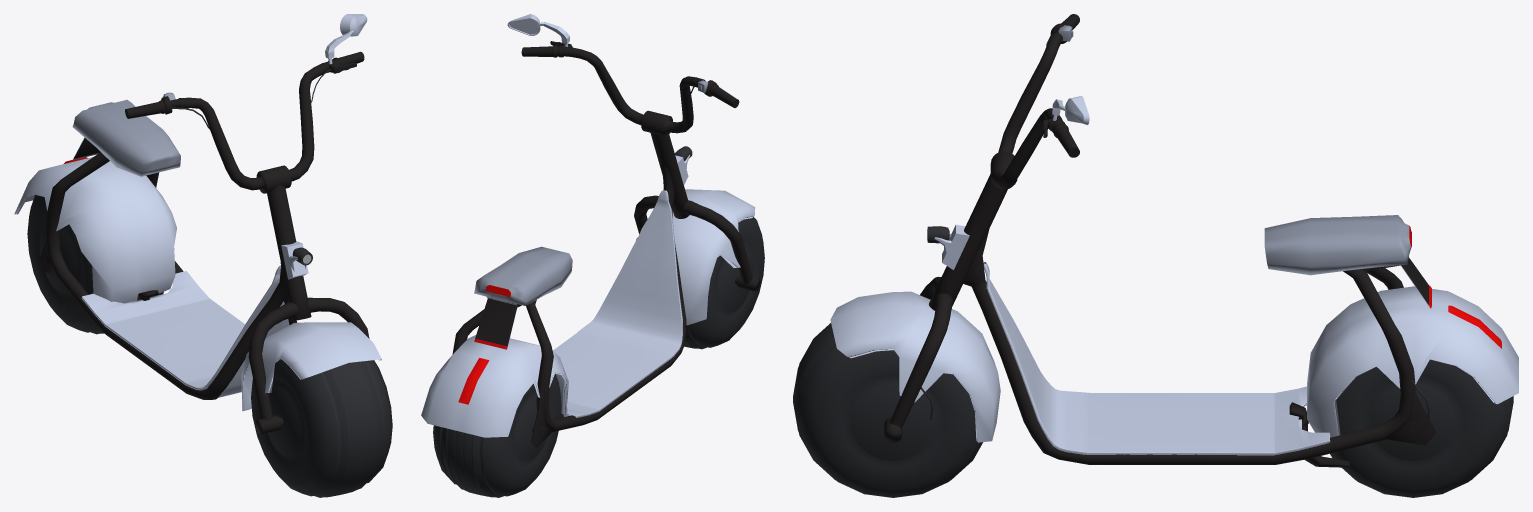
File: Test scrooser.fbx
3 renders of one model, left to right at view 1: azimuth 30°, elevation 25°; view 2: azimuth 150°, elevation 25°; view 3: azimuth 270°, elevation 25°, orthographic. The views are drawn at different scales.
Parts seen in each view (by area): view 1: pCylinder5, pCylinder7, pCube2, pCylinder9, polySurface2, pCube1, pCylinder4, pasted__pCylinder5, pCylinder2, pCylinder1, pCube3, pasted__pCube2 (+1 smaller); view 2: pCube2, pCylinder7, pasted__pCylinder5, pCylinder9, pCube1, pCylinder5, polySurface2, pCylinder4, pCylinder2, pCylinder1, pCylinder10, polySurface1; view 3: pCylinder5, pCube2, pCylinder7, pasted__pCylinder5, pCylinder9, polySurface1, pCube1, pCylinder4, pCylinder1, pCylinder2, polySurface2, pCube3.
Boxes of the visible parts, box(x1,y1,x2,y2) form: pCylinder5: box(251, 359, 392, 497); pCylinder7: box(14, 157, 176, 303); pCube2: box(81, 265, 280, 390); pCylinder9: box(241, 322, 381, 411); polySurface2: box(40, 152, 286, 399); pCube1: box(72, 99, 180, 176); pCylinder4: box(125, 51, 364, 193); pasted__pCylinder5: box(27, 195, 163, 334); pCylinder2: box(248, 297, 369, 419); pCylinder1: box(267, 185, 311, 320); pCube3: box(281, 241, 308, 279); pasted__pCube2: box(218, 301, 289, 397); pCube2: box(553, 190, 682, 417); pCylinder7: box(421, 335, 568, 437); pasted__pCylinder5: box(433, 373, 561, 497); pCylinder9: box(636, 189, 755, 325); pCube1: box(474, 246, 572, 349); pCylinder5: box(684, 217, 764, 349); polySurface2: box(526, 164, 686, 448); pCylinder4: box(521, 45, 739, 136); pCylinder2: box(634, 195, 752, 283); pCylinder1: box(650, 132, 689, 218); pCylinder10: box(507, 14, 540, 35); polySurface1: box(452, 309, 484, 354); pCylinder5: box(793, 323, 983, 497); pCube2: box(983, 262, 1330, 455); pCylinder7: box(1307, 286, 1518, 437); pasted__pCylinder5: box(1330, 359, 1513, 497); pCylinder9: box(830, 291, 1000, 442); polySurface1: box(972, 269, 1436, 464); pCube1: box(1264, 215, 1431, 308); pCylinder4: box(990, 14, 1079, 188); pCylinder1: box(929, 174, 1007, 310); pCylinder2: box(889, 276, 952, 428); polySurface2: box(963, 229, 1403, 405); pCube3: box(934, 224, 969, 269).
Size of the model in its own units: 4.7 by 7.12 by 10.33.
